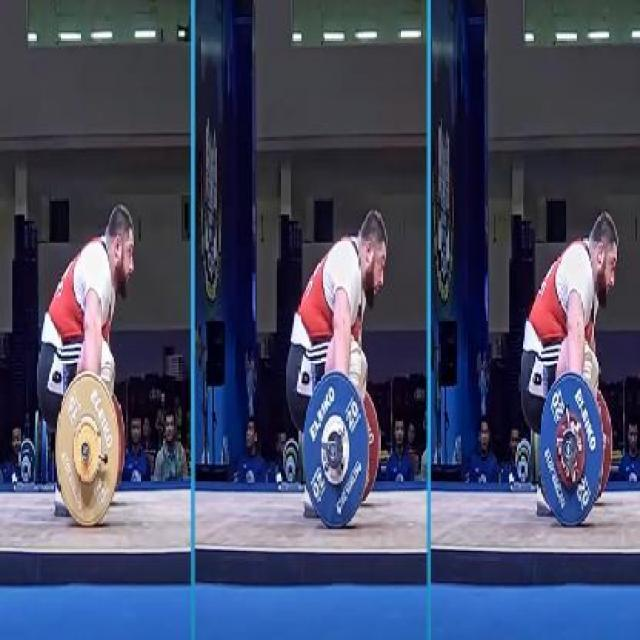barbell: (299, 369, 374, 537), (534, 371, 610, 534), (53, 370, 127, 537)
